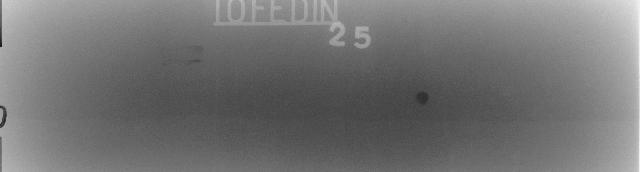FP: (156, 44, 212, 66)
PO: (408, 86, 438, 110)
